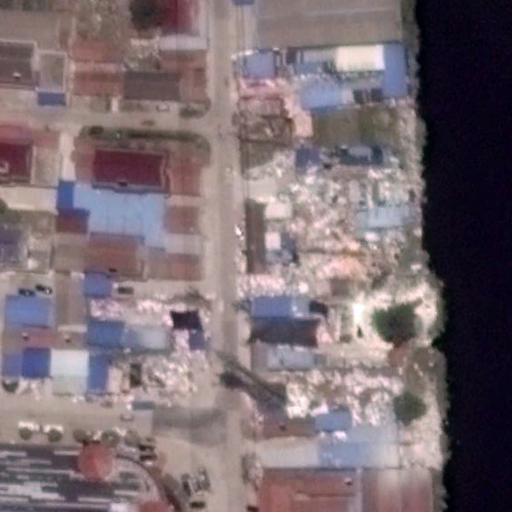msw: (238, 146, 444, 471), (97, 295, 206, 395)
